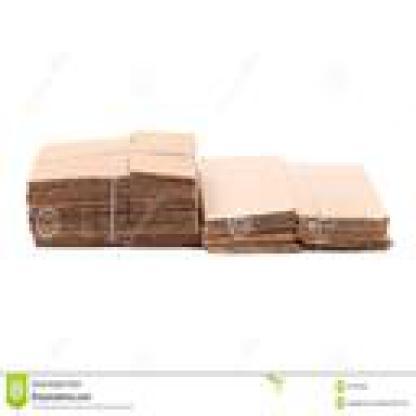CARDBOARD: (26, 130, 198, 247), (198, 153, 387, 247)
